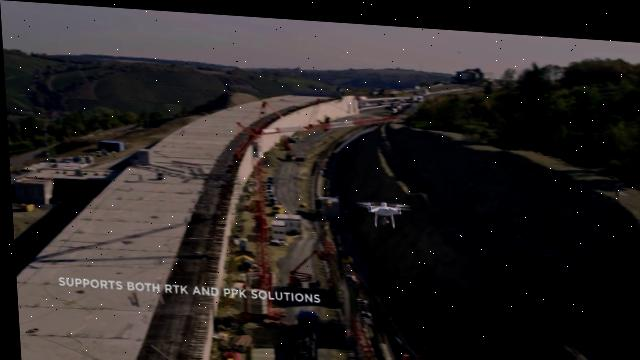drone: (352, 192, 412, 225)
